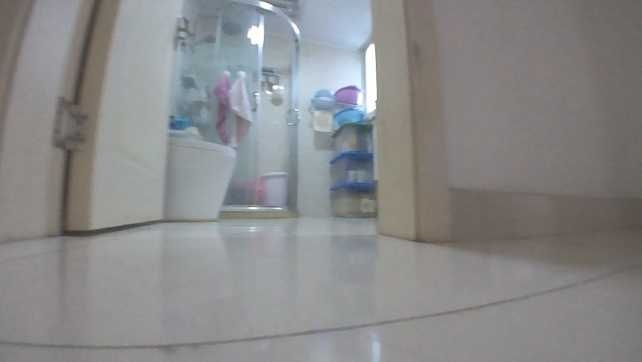door_anno: (1, 1, 190, 244)
toilet: (164, 128, 240, 223)
